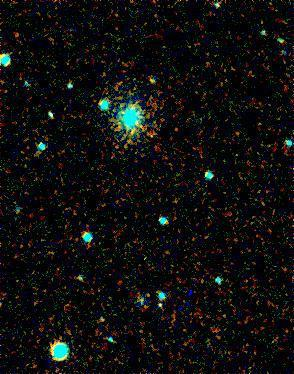star: (144, 289, 174, 319)
